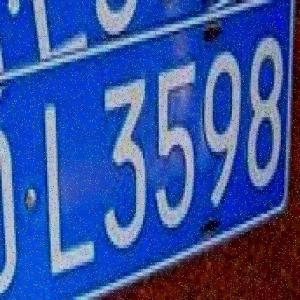Plate: (0, 2, 300, 300)
